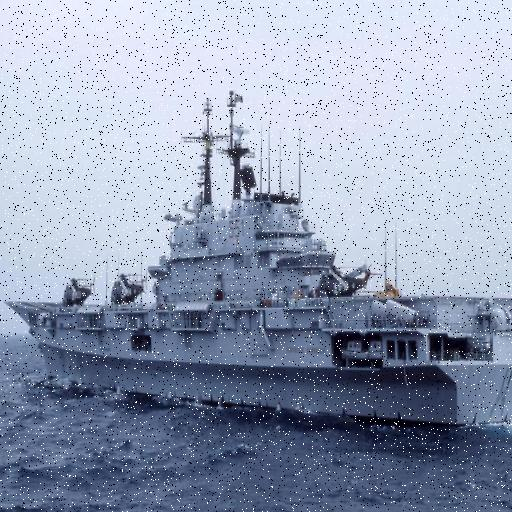Portanaves: (1, 80, 512, 434)
